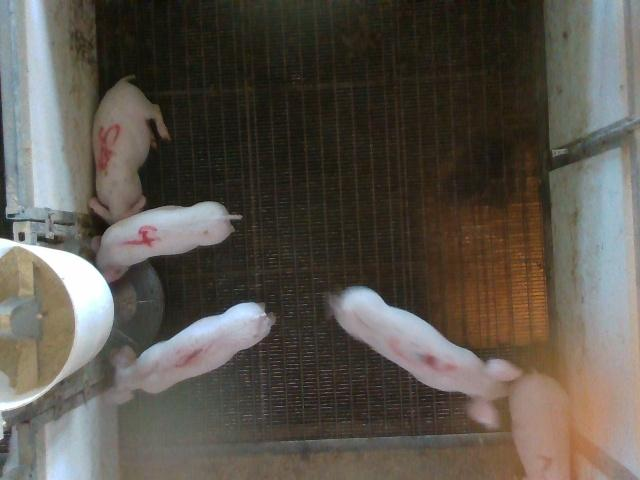pig-1: (106, 302, 275, 403)
pig-3: (329, 286, 522, 429)
pig-4: (96, 201, 241, 282)
pig-5: (89, 75, 170, 224)
